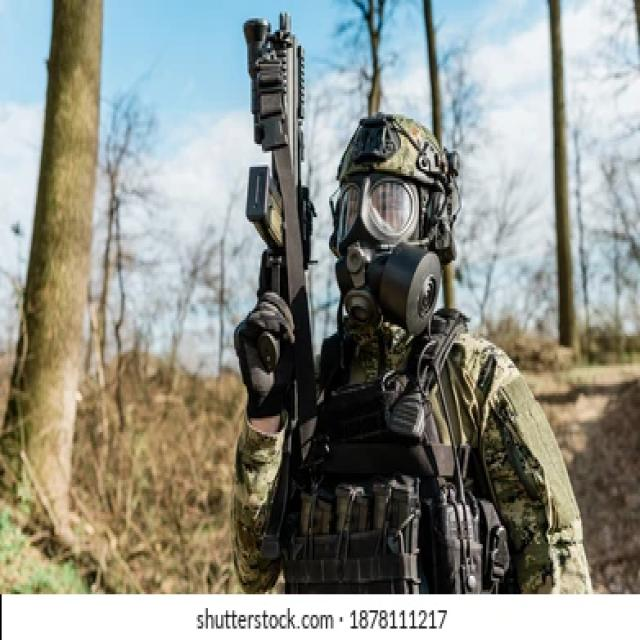soldier: (240, 15, 596, 598)
